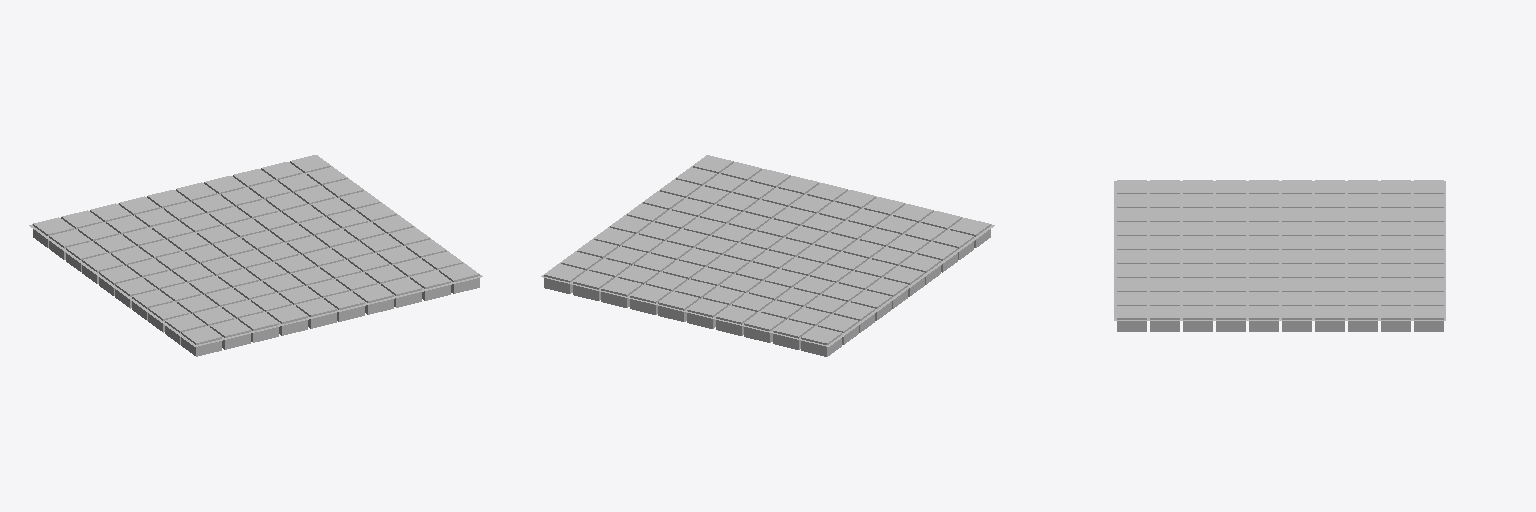
File: tutorial_ground_empty.obj
The picture shows the model from 3 angles: view 1: azimuth 30°, elevation 25°; view 2: azimuth 150°, elevation 25°; view 3: azimuth 270°, elevation 25°; orthographic projection.
Parts seen in each view (by area): view 1: 立方体, 平面; view 2: 立方体, 平面; view 3: 立方体, 平面.
Part boxes in pixels (x1,y1,x2,y2): 立方体: (33,155,479,356); 平面: (29,155,482,346); 立方体: (544,155,990,356); 平面: (541,155,994,346); 立方体: (1117,180,1443,331); 平面: (1114,181,1445,320).
Bounding box in the file's own units: 40 × 1.8 × 40.